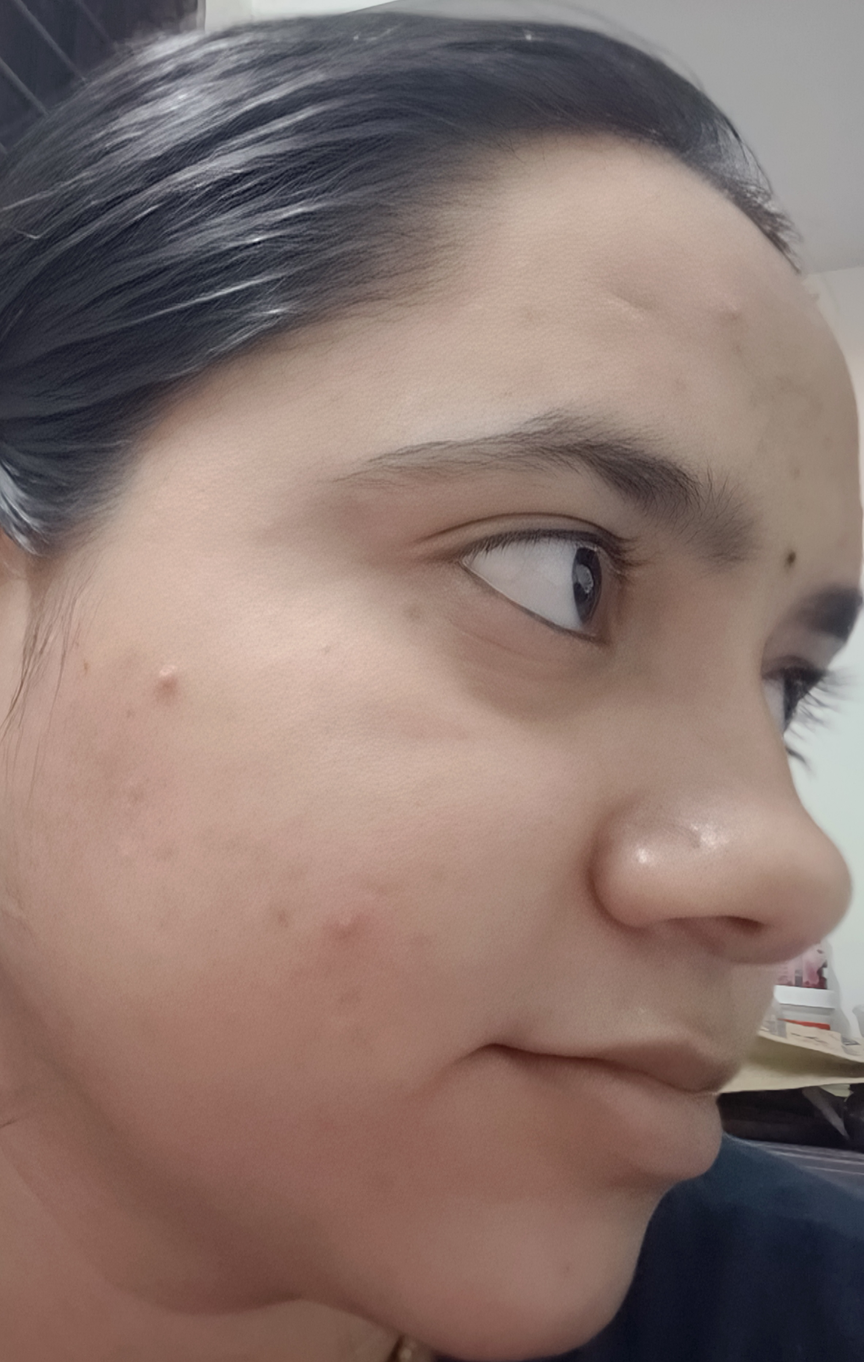closed_comedone: (703, 274, 770, 353)
pustule: (314, 895, 397, 969), (134, 632, 195, 726)
